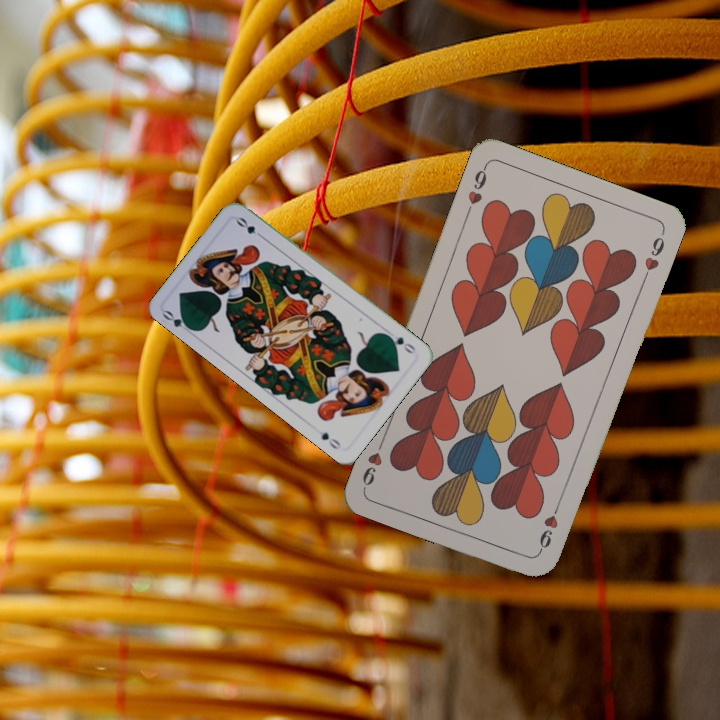GO: (159, 306, 196, 337), (382, 330, 418, 356)
H9: (461, 161, 490, 218), (534, 498, 563, 555)
